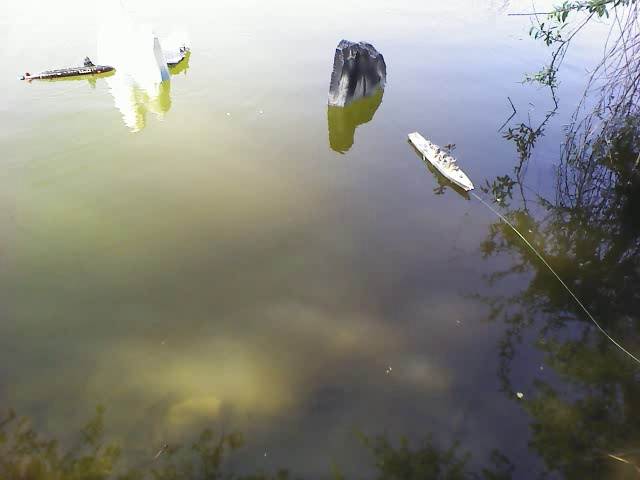aircraft_carrier: (164, 36, 198, 70)
iceberg: (103, 8, 170, 85)
rock: (324, 36, 396, 111)
submarine: (22, 53, 117, 86)
warship: (404, 126, 480, 193)
